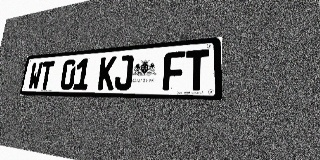0: (59, 59, 77, 90)
1: (73, 58, 91, 90)
F: (162, 51, 185, 90)
J: (114, 55, 134, 90)
K: (97, 56, 117, 90)
T: (185, 49, 209, 91), (38, 61, 55, 90)
W: (27, 62, 43, 90)
